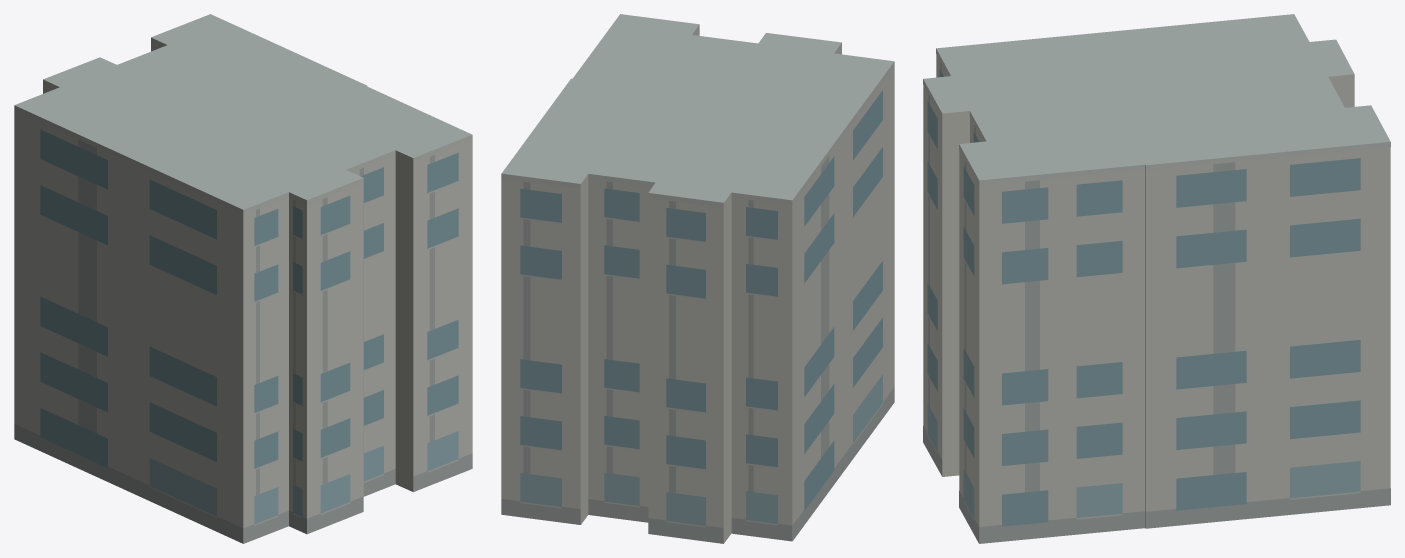
The model's file is survey-upis-32809813.glb.
3 renders of one model, left to right at view 1: azimuth 30°, elevation 25°; view 2: azimuth 150°, elevation 25°; view 3: azimuth 270°, elevation 25°, orthographic. The views are drawn at different scales.
Visible parts, largest first — view 1: survey-upis-32809813.tmp; view 2: survey-upis-32809813.tmp; view 3: survey-upis-32809813.tmp.
Part boxes in pixels (box(x1,y1,x2,y2)): survey-upis-32809813.tmp: box(14, 14, 472, 543); survey-upis-32809813.tmp: box(501, 14, 894, 543); survey-upis-32809813.tmp: box(923, 14, 1390, 543).
Bounding box in the file's own units: 15.77 × 16.05 × 18.73.
